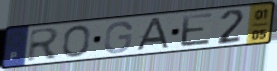2: (216, 8, 246, 46)
A: (132, 17, 171, 53)
E: (180, 11, 216, 48)
G: (103, 20, 135, 55)
O: (62, 24, 92, 58)
R: (26, 26, 62, 64)
